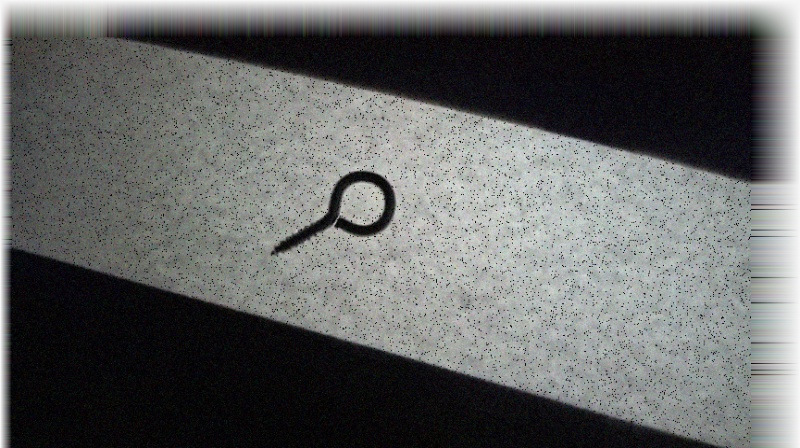O001: (267, 168, 399, 257)
